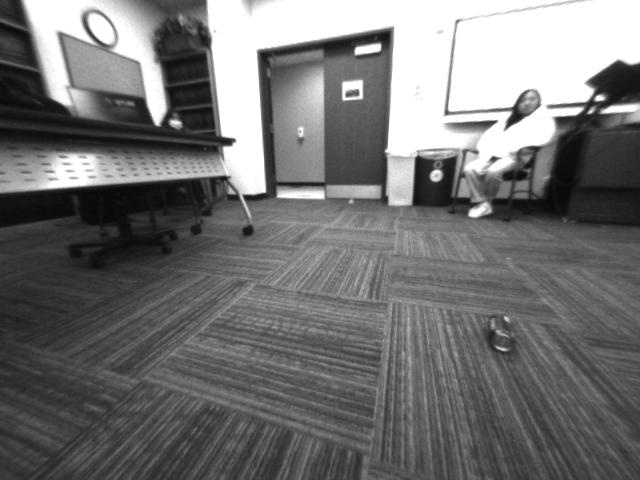can: (483, 306, 519, 363)
